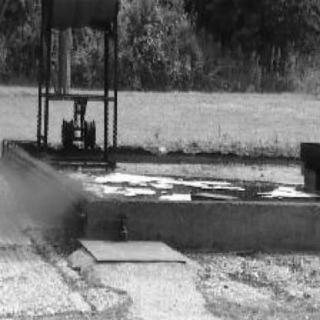Fire: (84, 176, 104, 204)
